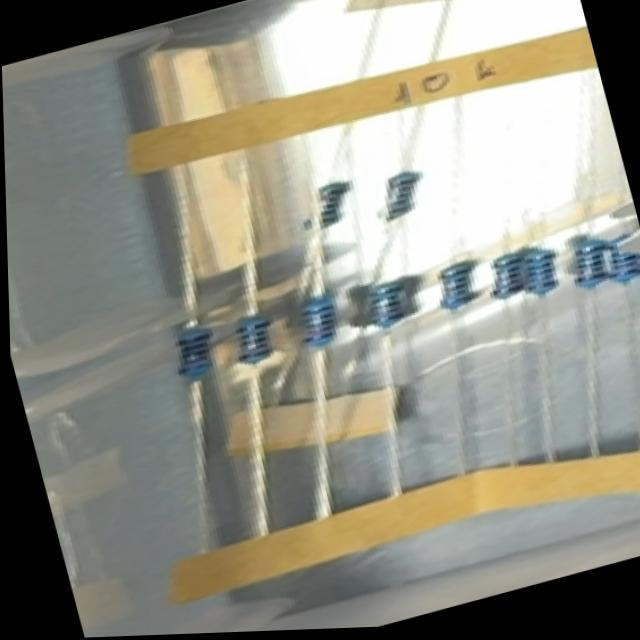Resistor: (370, 166, 433, 226), (168, 325, 222, 384), (302, 178, 357, 234), (228, 310, 281, 368), (294, 293, 346, 351), (431, 263, 477, 313), (481, 251, 527, 301), (519, 245, 561, 298), (569, 241, 611, 294), (604, 231, 640, 287), (367, 279, 404, 330), (390, 269, 428, 318), (344, 281, 381, 328), (558, 231, 594, 273), (630, 231, 640, 280)
